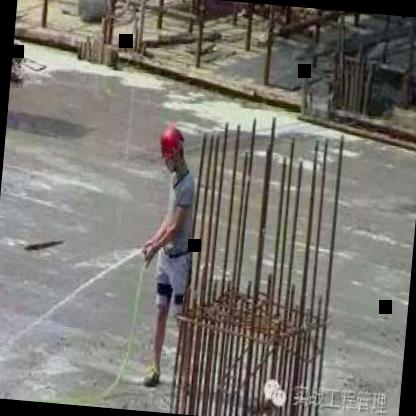helmet: (157, 122, 186, 167)
